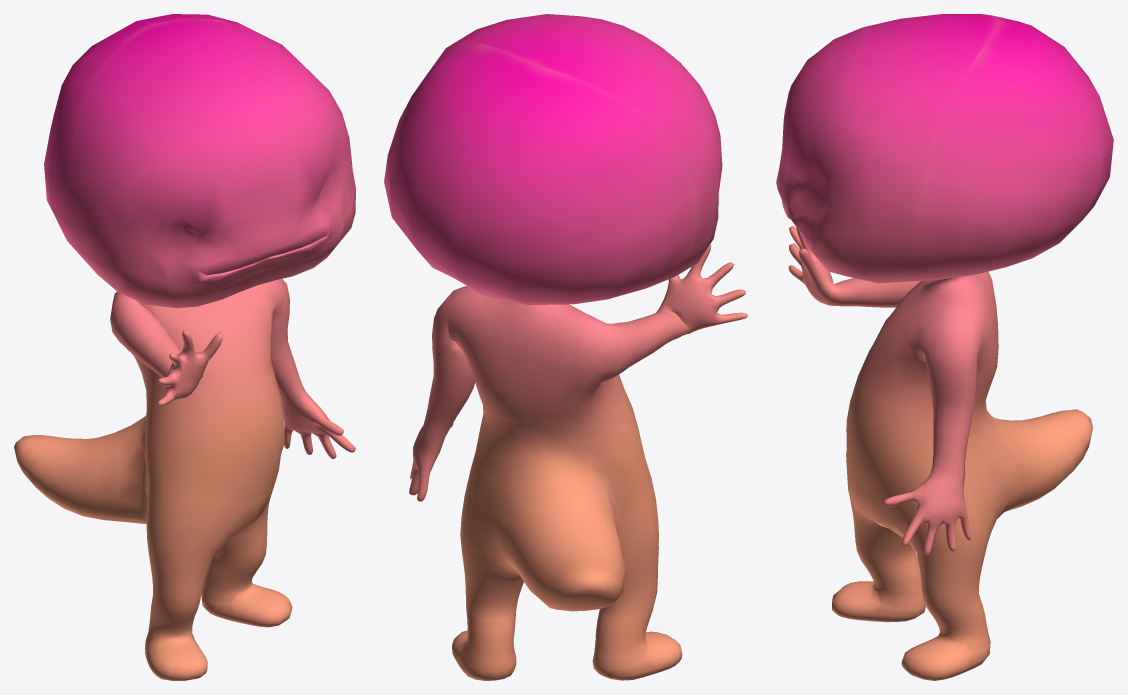
Rendered from axo_1.glb.
3 renders of one model, left to right at view 1: azimuth 30°, elevation 25°; view 2: azimuth 150°, elevation 25°; view 3: azimuth 270°, elevation 25°, orthographic. The views are drawn at different scales.
Visible parts, largest first — view 1: CUERPO LOW.001; view 2: CUERPO LOW.001; view 3: CUERPO LOW.001.
Part boxes in pixels (<box>): CUERPO LOW.001: <box>14,14,355,680</box>; CUERPO LOW.001: <box>384,14,747,680</box>; CUERPO LOW.001: <box>776,14,1113,680</box>.
Bounding box in the file's own units: 1.6 × 3.32 × 1.66.
1 material, 1 textured.
